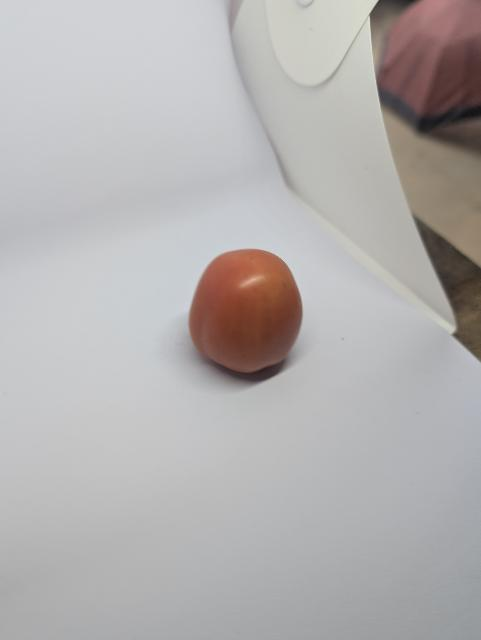red: (186, 240, 309, 389)
